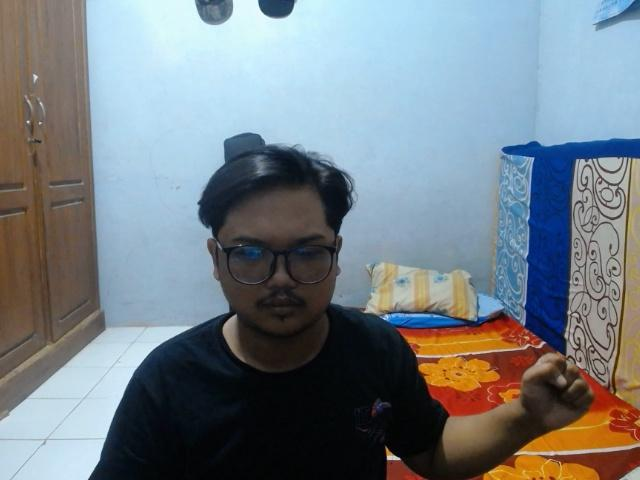Grab: (517, 348, 600, 438)
